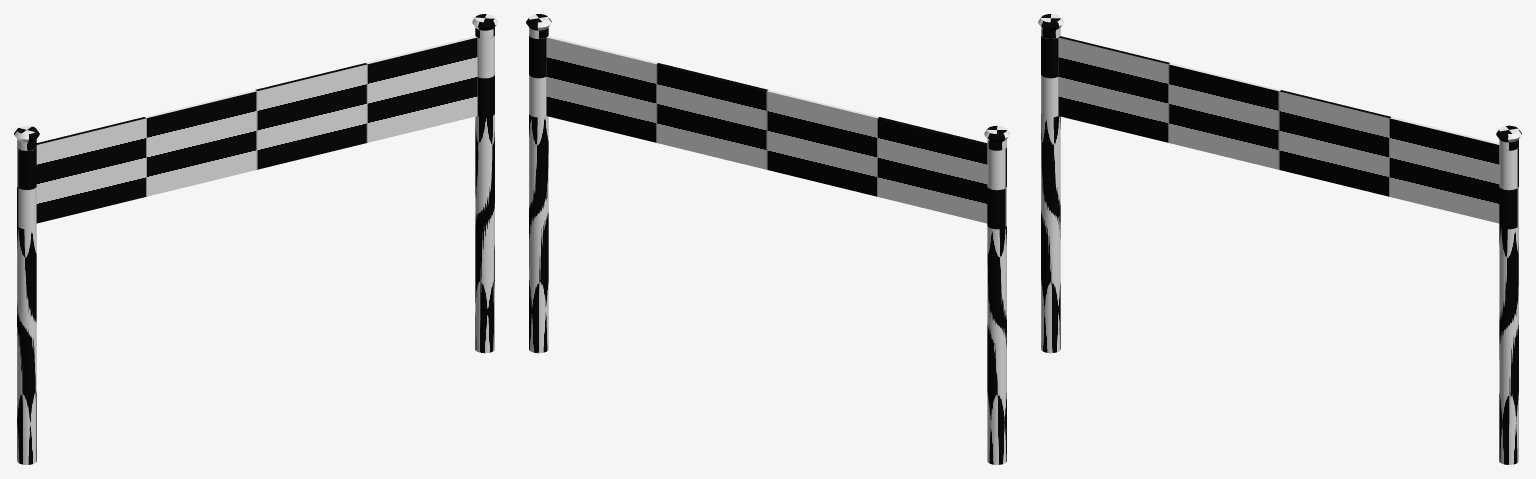
The model's file is FlagModel.fbx.
3 renders of one model, left to right at view 1: azimuth 30°, elevation 25°; view 2: azimuth 150°, elevation 25°; view 3: azimuth 330°, elevation 25°, orthographic.
Parts seen in each view (by area): view 1: Cylinder; view 2: Cylinder; view 3: Cylinder.
Part boxes in pixels (x1,y1,x2,y2): Cylinder: (14, 14, 497, 464); Cylinder: (526, 14, 1009, 464); Cylinder: (1038, 14, 1521, 464).
Size of the model in its own units: 4.2 by 2.76 by 0.195.
